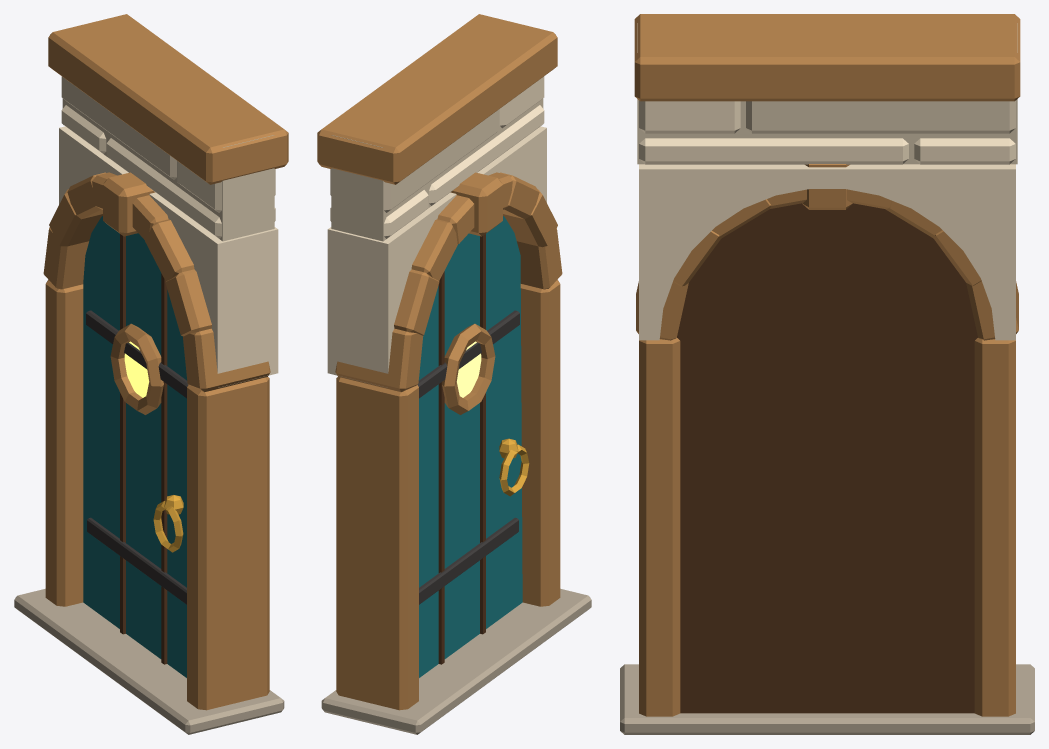
The model's file is mod_wall_curved_r2.52_n16_door.glb.
The picture shows the model from 3 angles, left to right: view 1: azimuth 30°, elevation 25°; view 2: azimuth 150°, elevation 25°; view 3: azimuth 270°, elevation 25°; orthographic projection. The views are drawn at different scales.
Parts seen in each view (by area): view 1: mod_wall_curved_r2.52_n16_door, part_door_leaf; view 2: mod_wall_curved_r2.52_n16_door, part_door_leaf; view 3: mod_wall_curved_r2.52_n16_door.
Boxes of the visible parts, x1,y1,x2,y2 form: mod_wall_curved_r2.52_n16_door: [14, 14, 288, 734]; part_door_leaf: [83, 216, 188, 677]; mod_wall_curved_r2.52_n16_door: [317, 14, 591, 734]; part_door_leaf: [417, 216, 529, 677]; mod_wall_curved_r2.52_n16_door: [620, 14, 1034, 734].
Bounding box in the file's own units: 0.4 × 2 × 1.1.
